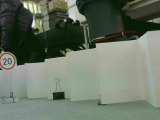speed_20: (1, 50, 19, 72)
